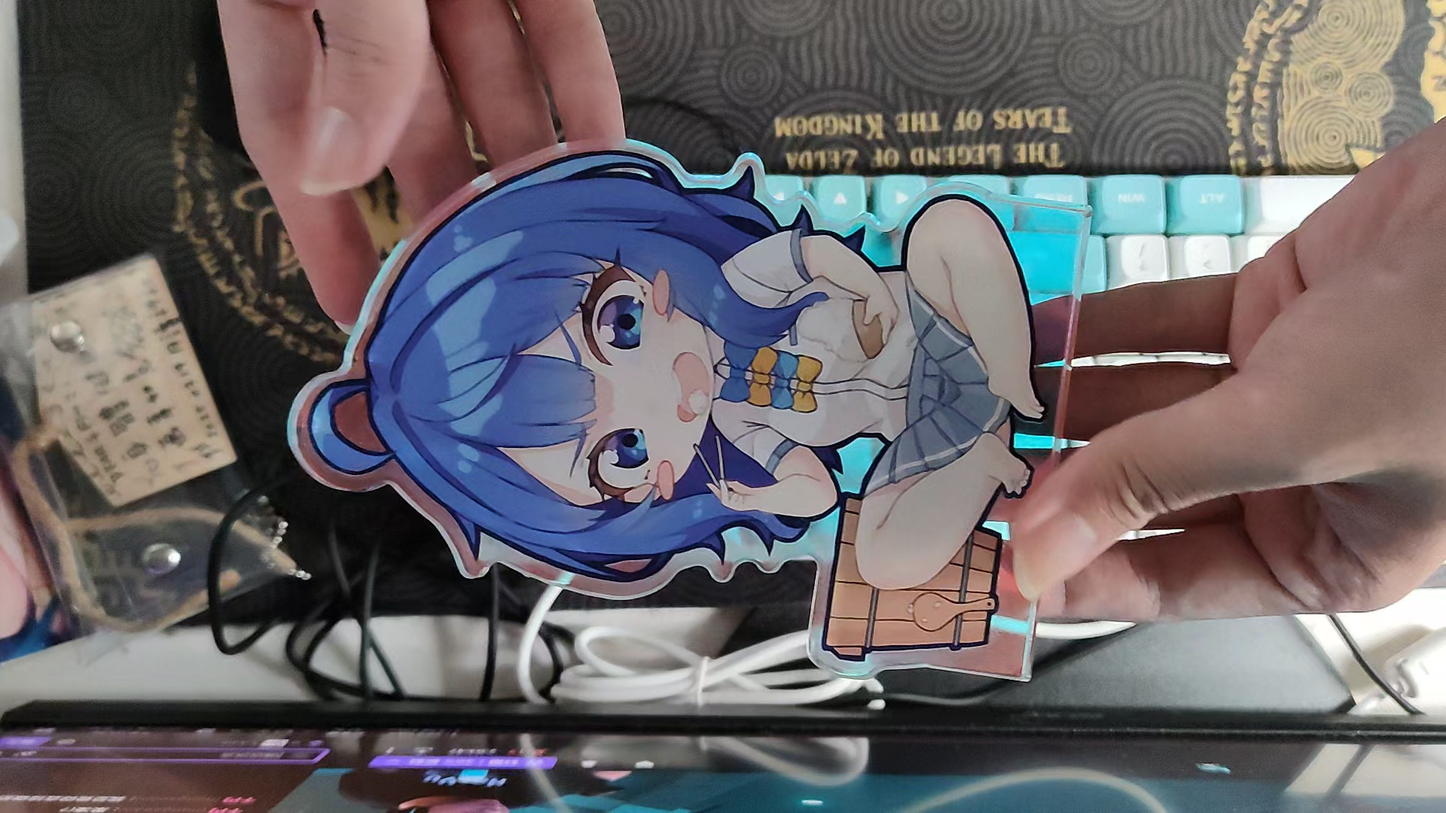Yanami-anna: (286, 137, 1092, 680)
